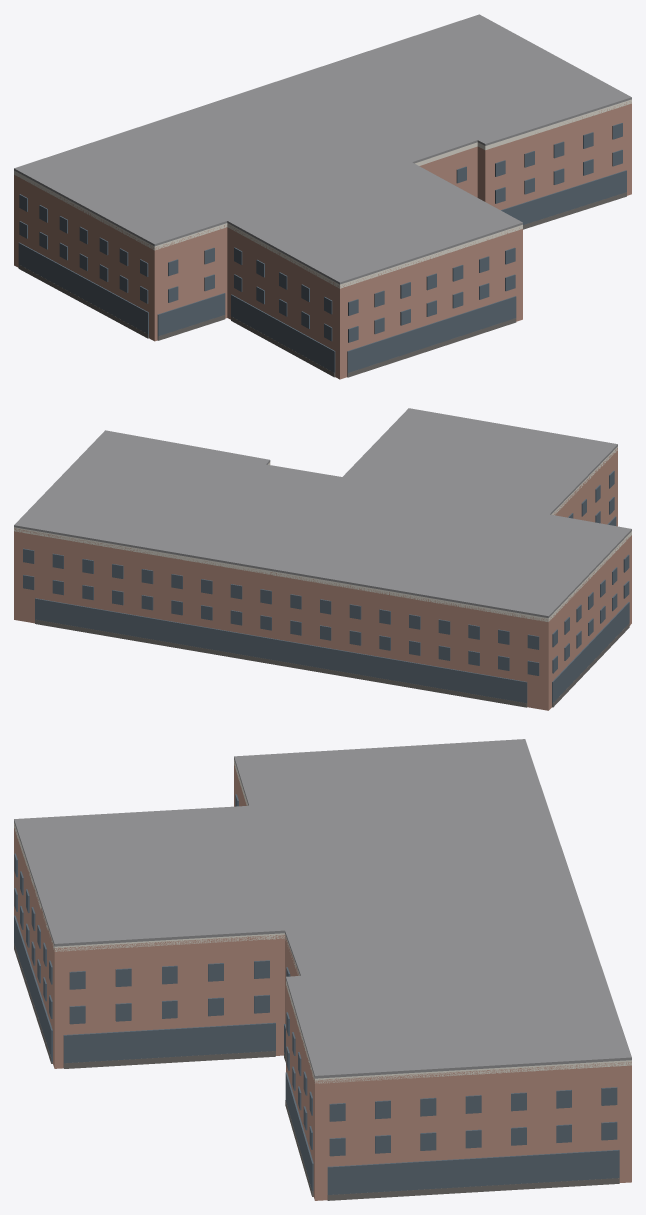
The model's file is s06_tile_tile__1_0_21.glb.
3 views of the same model, one above another, from view 1: azimuth 30°, elevation 25°; view 2: azimuth 150°, elevation 25°; view 3: azimuth 270°, elevation 25° (orthographic). The views are drawn at different scales.
Parts seen in each view (by area): view 1: roofcap, mass, store_0, cornice, store_7, store_4, store_9, store_8, bulk_0, bulk_7, bulk_9, bulk_4; view 2: roofcap, mass, store_6, cornice, bulk_6, store_7; view 3: roofcap, mass, store_5, store_1, cornice, bulk_5, bulk_1, store_0, store_4.
Boxes of the visible parts, left/top/right/bottom form: roofcap: left=14, top=14, right=631, bottom=284; mass: left=14, top=101, right=631, bottom=379; store_0: left=347, top=296, right=516, bottom=375; cornice: left=14, top=99, right=631, bottom=288; store_7: left=18, top=242, right=148, bottom=336; store_4: left=501, top=170, right=626, bottom=224; store_9: left=231, top=294, right=335, bottom=372; store_8: left=157, top=293, right=225, bottom=338; bulk_0: left=347, top=318, right=516, bottom=377; bulk_7: left=18, top=264, right=148, bottom=338; bulk_9: left=231, top=316, right=335, bottom=377; bulk_4: left=523, top=192, right=626, bottom=229; roofcap: left=14, top=408, right=631, bottom=617; mass: left=14, top=448, right=631, bottom=710; store_6: left=35, top=598, right=527, bottom=703; cornice: left=14, top=446, right=631, bottom=621; bulk_6: left=35, top=619, right=527, bottom=707; store_7: left=552, top=602, right=629, bottom=702; roofcap: left=14, top=739, right=631, bottom=1078; mass: left=14, top=761, right=631, bottom=1200; store_5: left=327, top=1150, right=619, bottom=1194; store_1: left=63, top=1022, right=275, bottom=1065; cornice: left=14, top=759, right=631, bottom=1083; bulk_5: left=327, top=1178, right=619, bottom=1200; bulk_1: left=63, top=1051, right=275, bottom=1068; store_0: left=14, top=915, right=52, bottom=1061; store_4: left=285, top=1072, right=313, bottom=1194.
Bounding box in the file's own units: 62.75 × 10.85 × 48.63.
